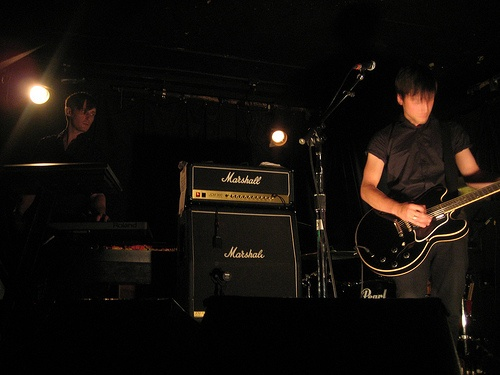head: (396, 69, 438, 124), (60, 91, 100, 142)
person: (359, 64, 490, 366), (29, 90, 105, 162)
